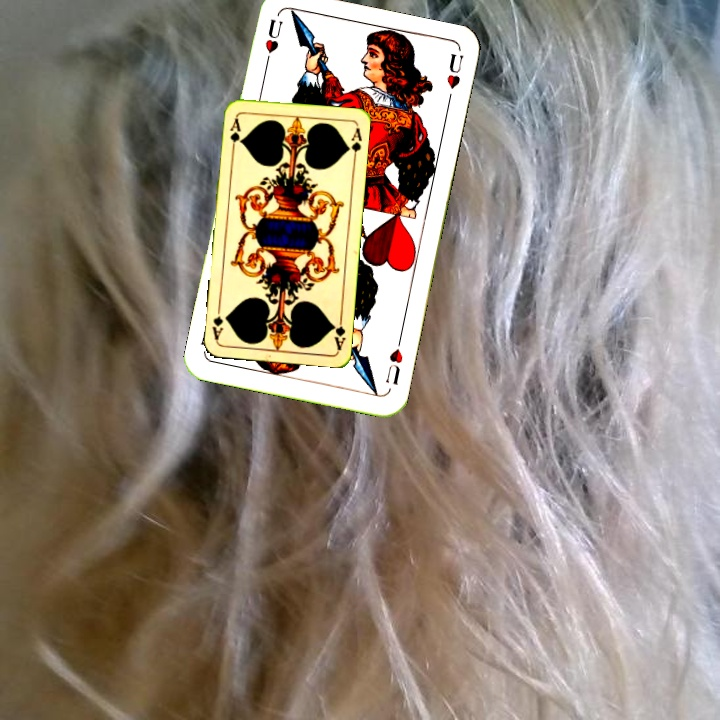GA: (329, 311, 348, 351), (226, 113, 243, 153)
HU: (260, 15, 285, 71), (381, 334, 406, 388)
